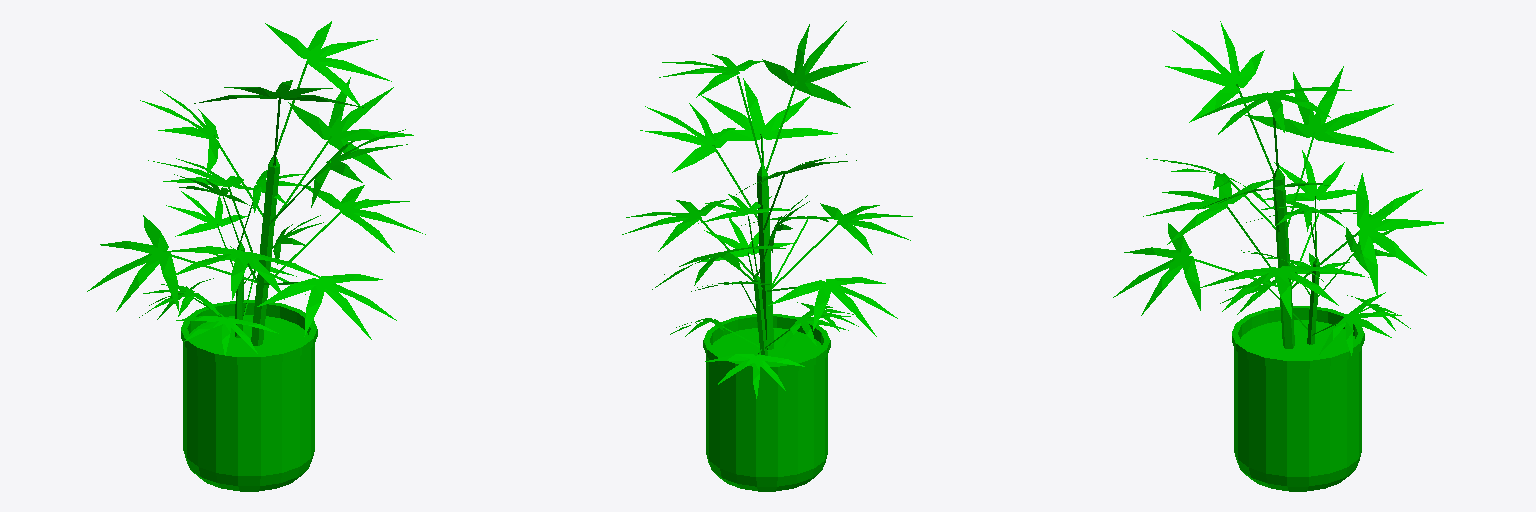
URDF robot description (plant):
<?xml version="1.0"?>
<robot name="plant">
<link name="plant_base_link">
  <inertial>
    <mass value="0.0"/>
    <origin xyz="0 0 0" rpy="0 0 0"/>
    <inertia ixx="0.01" ixy="0" ixz="0" iyy="0.01" iyz="0" izz="0.01"/>
  </inertial>

  <visual>
    <origin xyz="0 0 0" rpy="0 0 0"/>
    <geometry>
      <mesh filename="package://meshes/plant.dae" scale="1 1 1"/>
    </geometry>
    <material name="material_name">
      <color rgba="0 0.8 0 1.0"/>
    </material>
  </visual>

  <collision>
    <origin xyz="0 0 0" rpy="0 0 0"/>
    <geometry>
      <mesh filename="package://meshes/plant.dae" scale="1 1 1"/> 
      
      </geometry>
  </collision>
</link>
</robot>

--- Facts derived from the render (not from the file) ---
3 views of the same robot in one strip: view 1: azimuth 30°, elevation 25°; view 2: azimuth 150°, elevation 25°; view 3: azimuth 270°, elevation 25° (orthographic).
Robot: plant — 1 links, 0 joints (none); root link plant_base_link; default pose: every joint at zero.
Visible links, largest first — view 1: plant_base_link; view 2: plant_base_link; view 3: plant_base_link.
Link boxes in pixels (x1,y1,x2,y2): plant_base_link: (87,21,425,491); plant_base_link: (622,21,912,491); plant_base_link: (1113,21,1443,491).
Size in the robot's own frame: 0.7841 by 0.7853 by 1.1 metres.
1 mesh visuals loaded from 1 distinct referenced files (1 Collada DAE).
